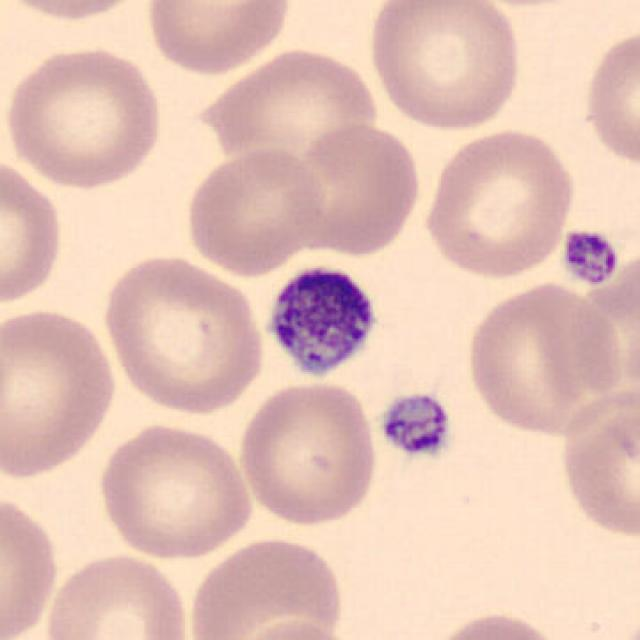Platelets: (260, 261, 384, 384), (373, 388, 457, 462), (558, 226, 622, 287)
RBC: (98, 248, 266, 418), (460, 279, 628, 439), (420, 124, 580, 280), (2, 41, 167, 192), (92, 420, 256, 560), (196, 44, 384, 166), (235, 377, 382, 529), (0, 303, 121, 483), (364, 0, 526, 132), (181, 143, 329, 277), (286, 118, 425, 258), (185, 532, 348, 640), (39, 548, 194, 640), (554, 382, 640, 543), (142, 0, 297, 78), (0, 153, 68, 312), (0, 488, 60, 638), (580, 21, 638, 173), (423, 608, 567, 640), (0, 0, 155, 25), (228, 615, 366, 640)
